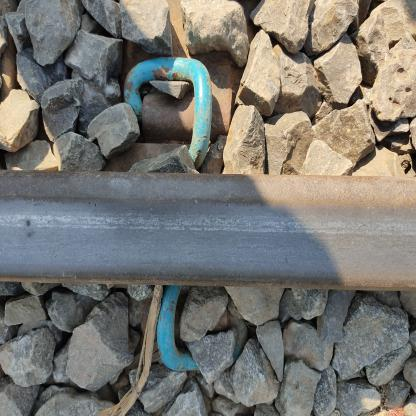Non Defective 1: (185, 229, 319, 386), (212, 33, 305, 171)
